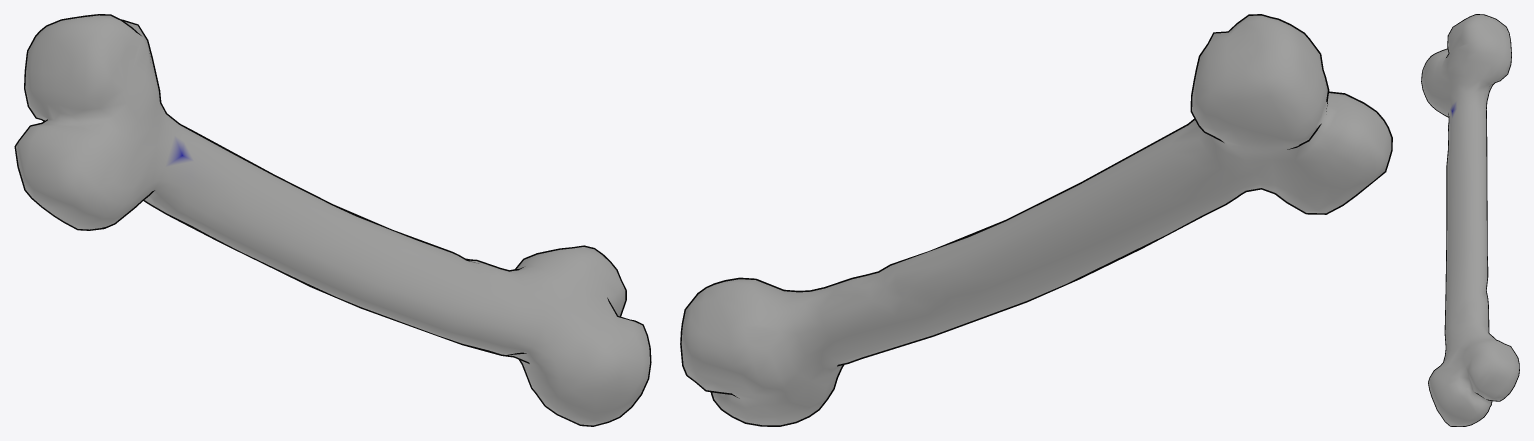
Rendered from bone405.glb.
3 renders of one model, left to right at view 1: azimuth 30°, elevation 25°; view 2: azimuth 150°, elevation 25°; view 3: azimuth 270°, elevation 25°, orthographic. The views are drawn at different scales.
Parts seen in each view (by area): view 1: Baked; view 2: Baked; view 3: Baked.
Part boxes in pixels (bbox=[...]): Baked: bbox=[14, 14, 651, 426]; Baked: bbox=[680, 14, 1392, 426]; Baked: bbox=[1421, 14, 1519, 426].
Bounding box in the file's own units: 4.9 × 3.82 × 1.23.
Materials: 2 (1 with a texture image).
